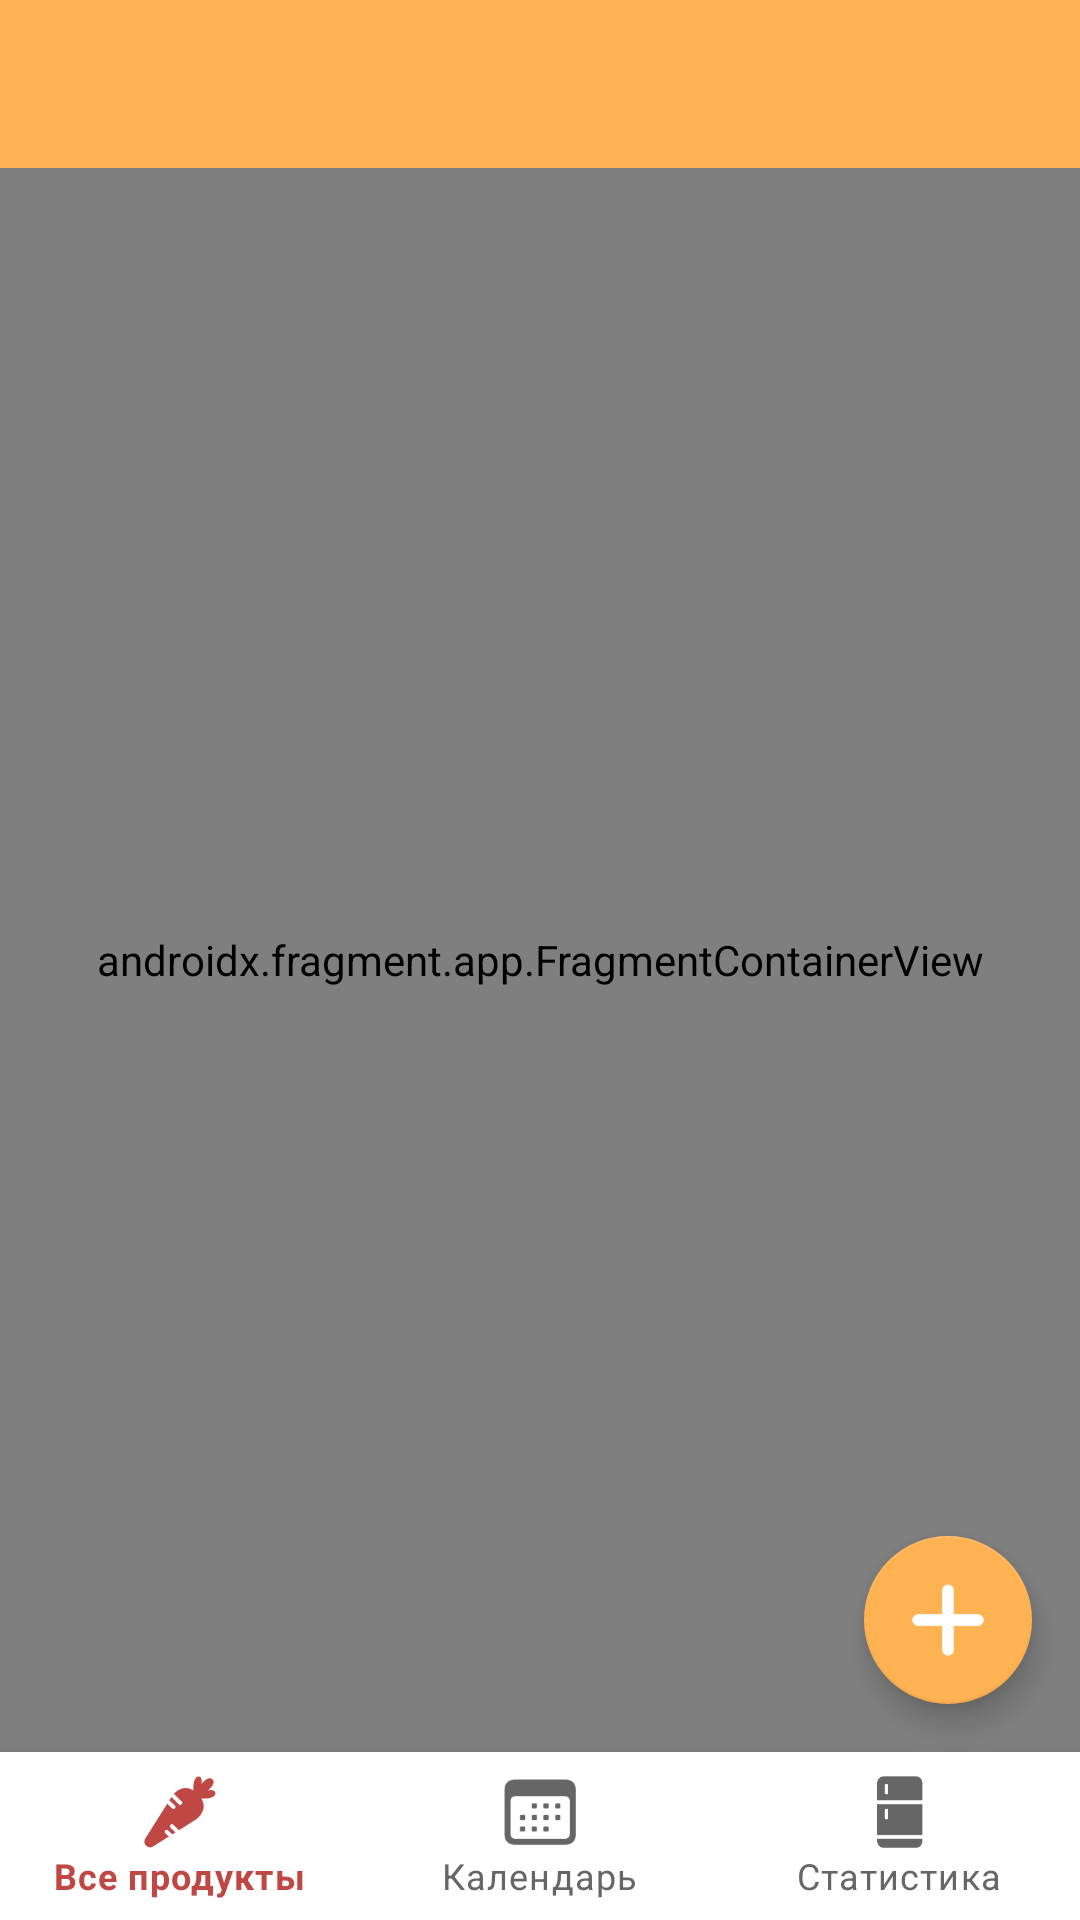

Where to tap for icons on this 1080w x 1920h app screen, as (x,y):
plus: (948,1620)
